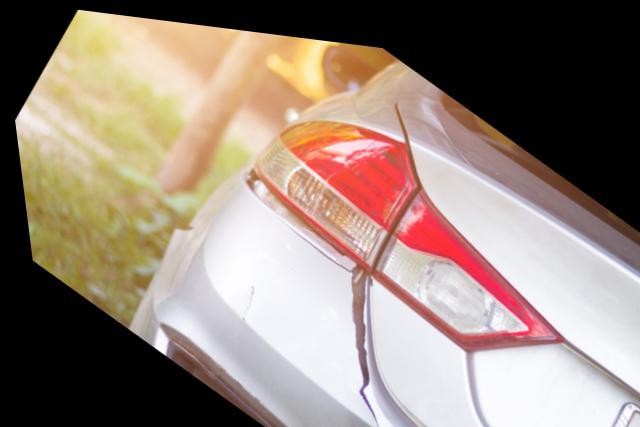crack: (264, 206, 373, 427)
dent: (311, 405, 367, 427)
scratch: (223, 278, 249, 319)
